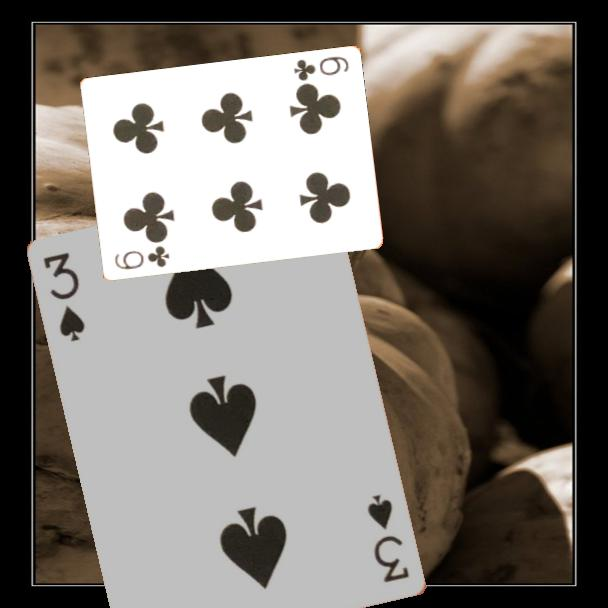c06: (290, 53, 351, 84), (111, 243, 172, 273)
s03: (40, 249, 89, 345), (364, 491, 413, 586)
